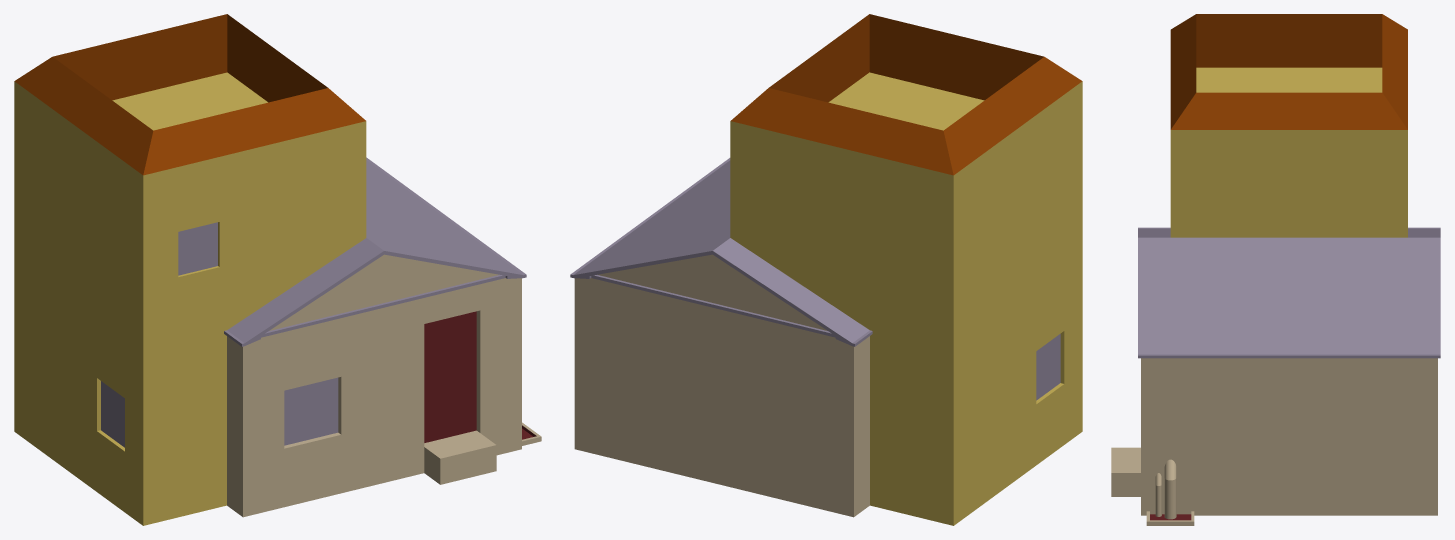
Rendered from House6.fbx.
The picture shows the model from 3 angles, left to right: view 1: azimuth 30°, elevation 25°; view 2: azimuth 150°, elevation 25°; view 3: azimuth 270°, elevation 25°; orthographic projection. The views are drawn at different scales.
Visible parts, largest first — view 1: Cube.028, Cube.029; view 2: Cube.028, Cube.029; view 3: Cube.029, Cube.028, Cylinder.030, Cube.030.
Boxes of the visible parts, box(x1,y1,x2,y2) form: Cube.028: box(14, 14, 366, 525); Cube.029: box(224, 157, 526, 517); Cube.028: box(730, 14, 1082, 525); Cube.029: box(570, 158, 872, 517); Cube.029: box(1111, 227, 1440, 515); Cube.028: box(1170, 14, 1407, 237); Cylinder.030: box(1164, 459, 1176, 519); Cube.030: box(1146, 511, 1194, 525).
Bounding box in the file's own units: 1382 × 1299 × 1110.
